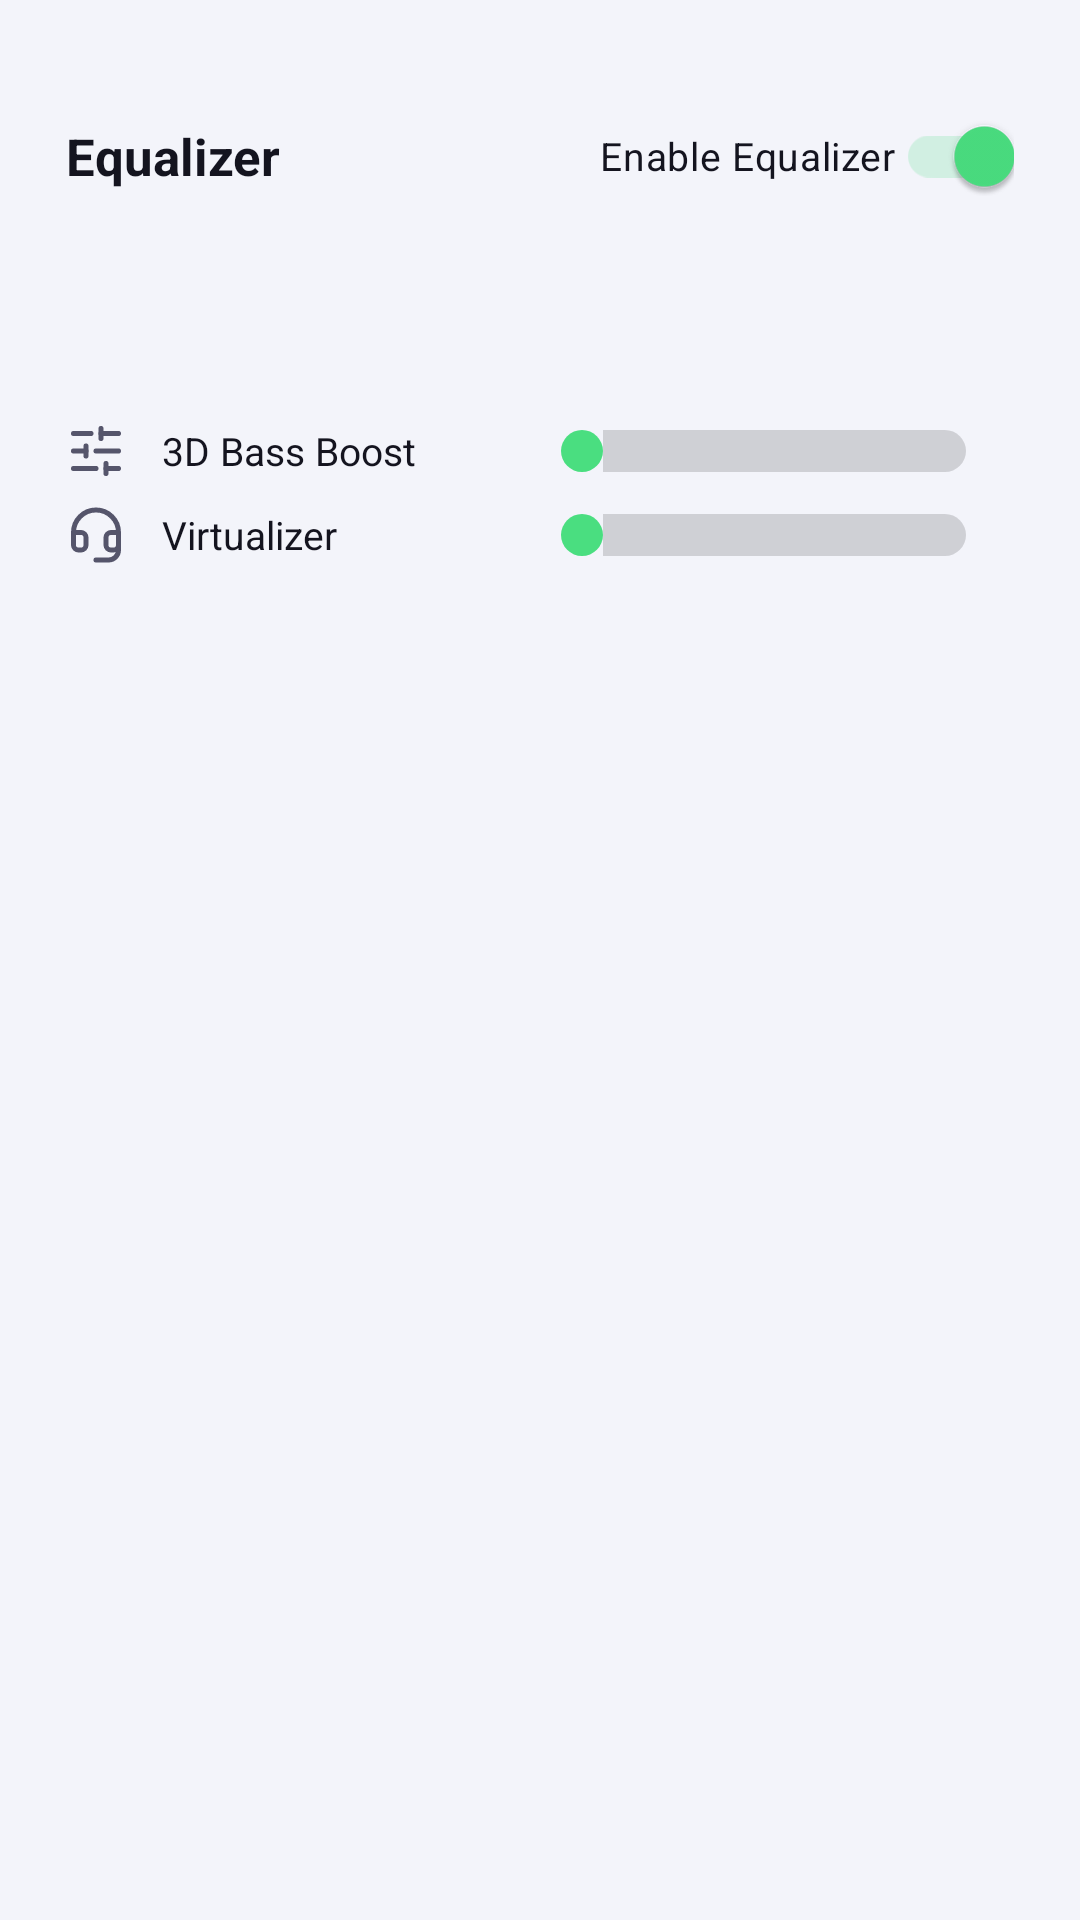

Icons on this 1080×1920 Android screen, each with its box as (x1, y1, x2, y2):
equalizer: (71, 426, 121, 476)
headset: (71, 507, 121, 563)
